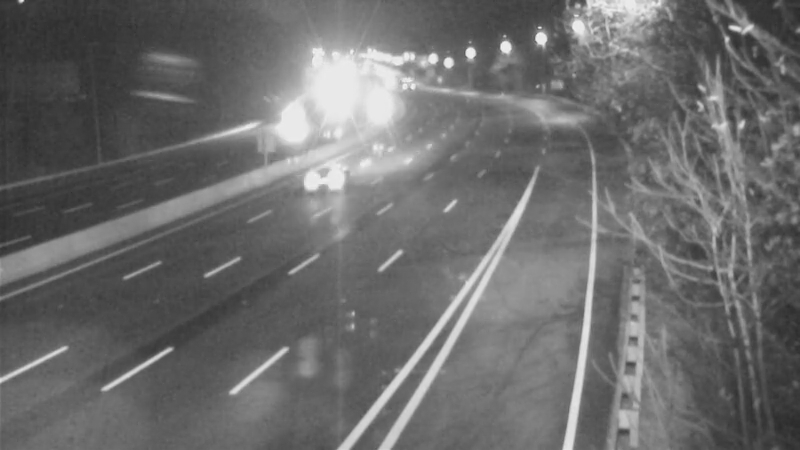vehicle: (285, 134, 365, 214), (382, 61, 432, 111), (263, 95, 313, 145), (348, 76, 398, 126)
